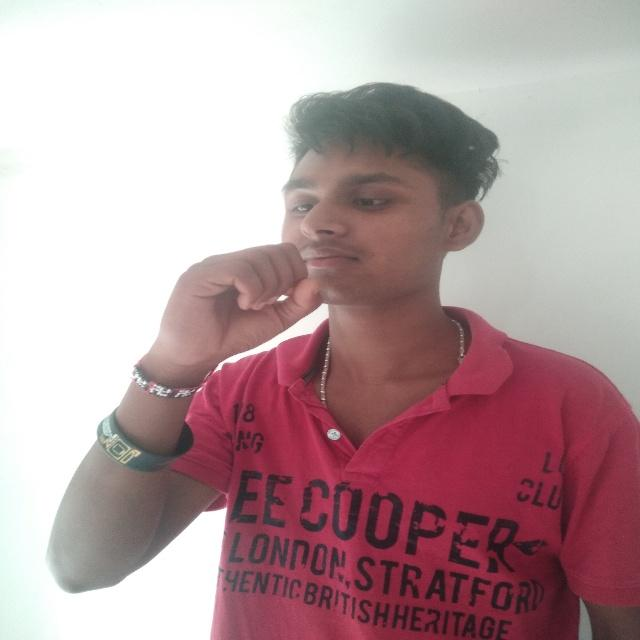Fist Mouth: (153, 85, 495, 376)
